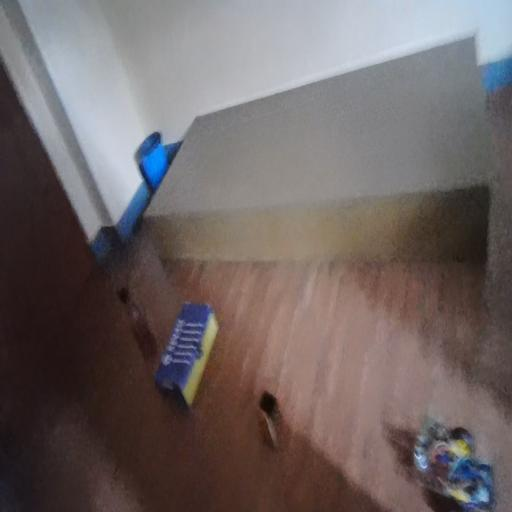Bottle: (122, 289, 157, 368)
